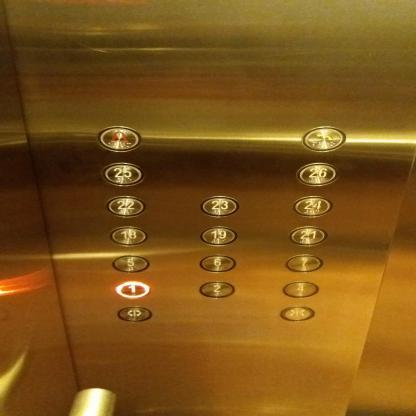1: (114, 281, 151, 298)
18: (108, 226, 149, 246)
19: (198, 226, 239, 246)
2: (199, 281, 235, 299)
21: (288, 226, 328, 246)
22: (104, 195, 147, 218)
23: (198, 195, 240, 218)
24: (290, 195, 333, 218)
25: (100, 162, 146, 187)
26: (295, 162, 340, 186)
4: (282, 281, 319, 298)
5: (111, 255, 149, 273)
6: (198, 254, 237, 273)
7: (284, 254, 323, 274)
alarm: (95, 126, 143, 152)
call: (300, 126, 348, 152)
close: (279, 306, 316, 322)
open: (116, 306, 153, 322)
